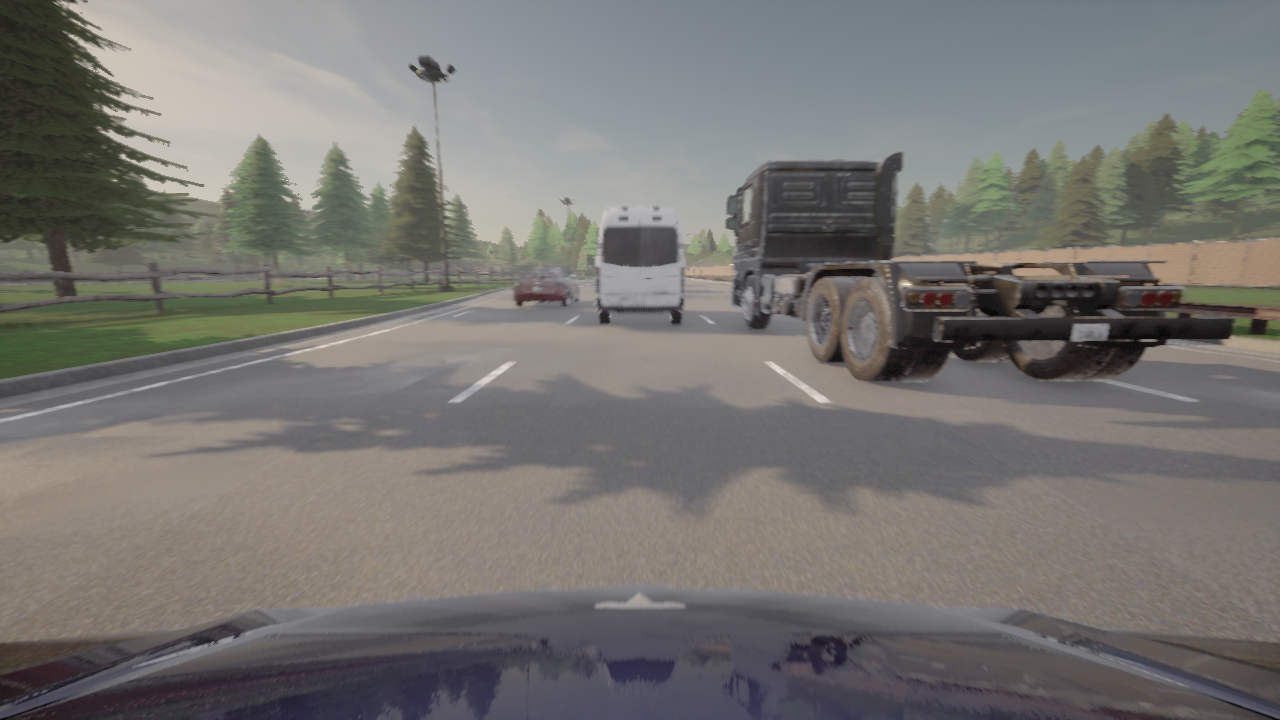cyclist: (0, 584, 1279, 719), (726, 151, 1234, 382), (594, 207, 685, 324), (512, 268, 579, 306)
